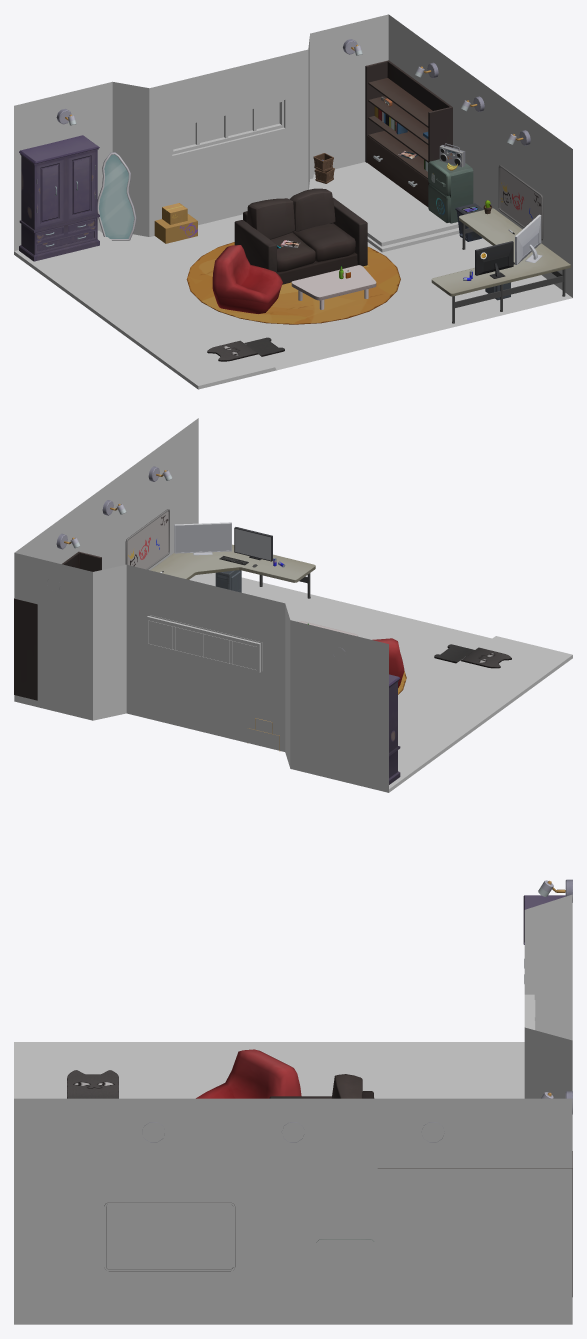
The model's file is HangOut 1.fbx.
3 renders of one model, top to bottom at view 1: azimuth 30°, elevation 25°; view 2: azimuth 150°, elevation 25°; view 3: azimuth 270°, elevation 25°, orthographic. The views are drawn at different scales.
Parts seen in each view (by area): view 1: Walls, Props_Big, Props_Small; view 2: Walls, Props_Big, Props_Small; view 3: Walls, Props_Big, Props_Small.
Part boxes in pixels (x1,y1,x2,y2): Walls: (14,14,572,389); Props_Big: (19,60,570,361); Props_Small: (56,39,530,280); Walls: (14,418,572,792); Props_Big: (14,509,511,784); Props_Small: (56,466,344,751); Walls: (14,894,572,1324); Props_Big: (67,895,572,1296); Props_Small: (144,879,572,1242).
Bounding box in the file's own units: 870 × 331 × 740.
